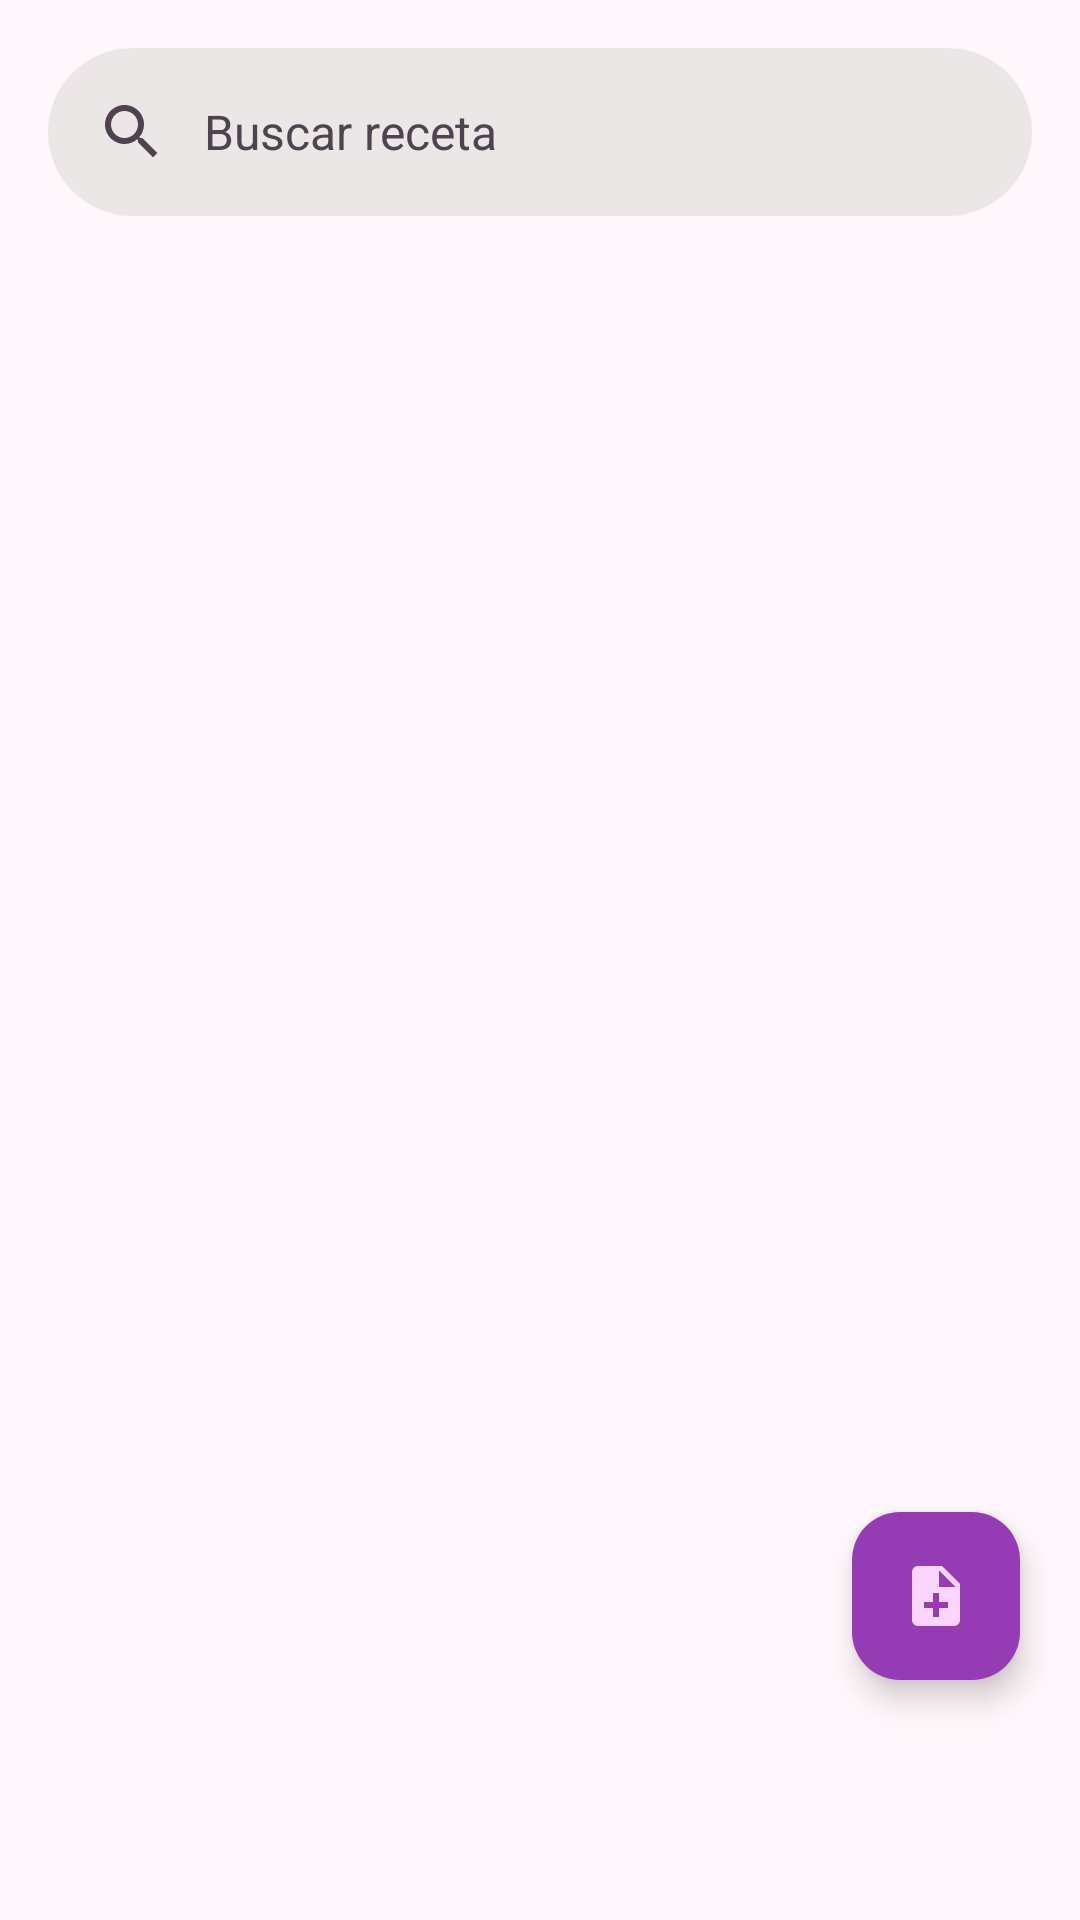

Where icons sit on this 1080*1920 app screen, as region(x1, y1, x2, y2):
Agregar receta: region(852, 1512, 1020, 1680)
